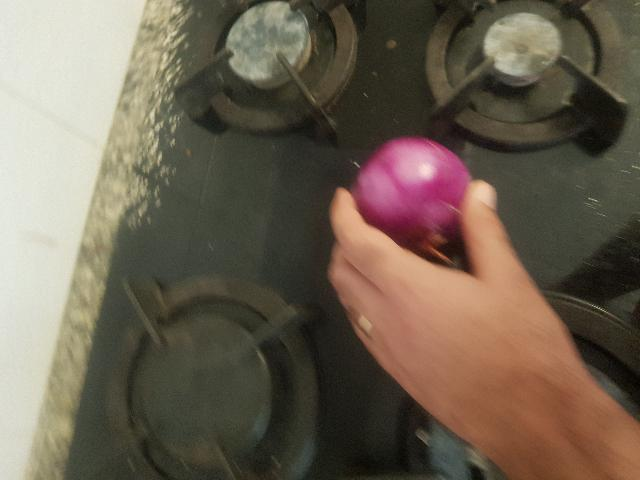onion: (351, 138, 475, 260)
